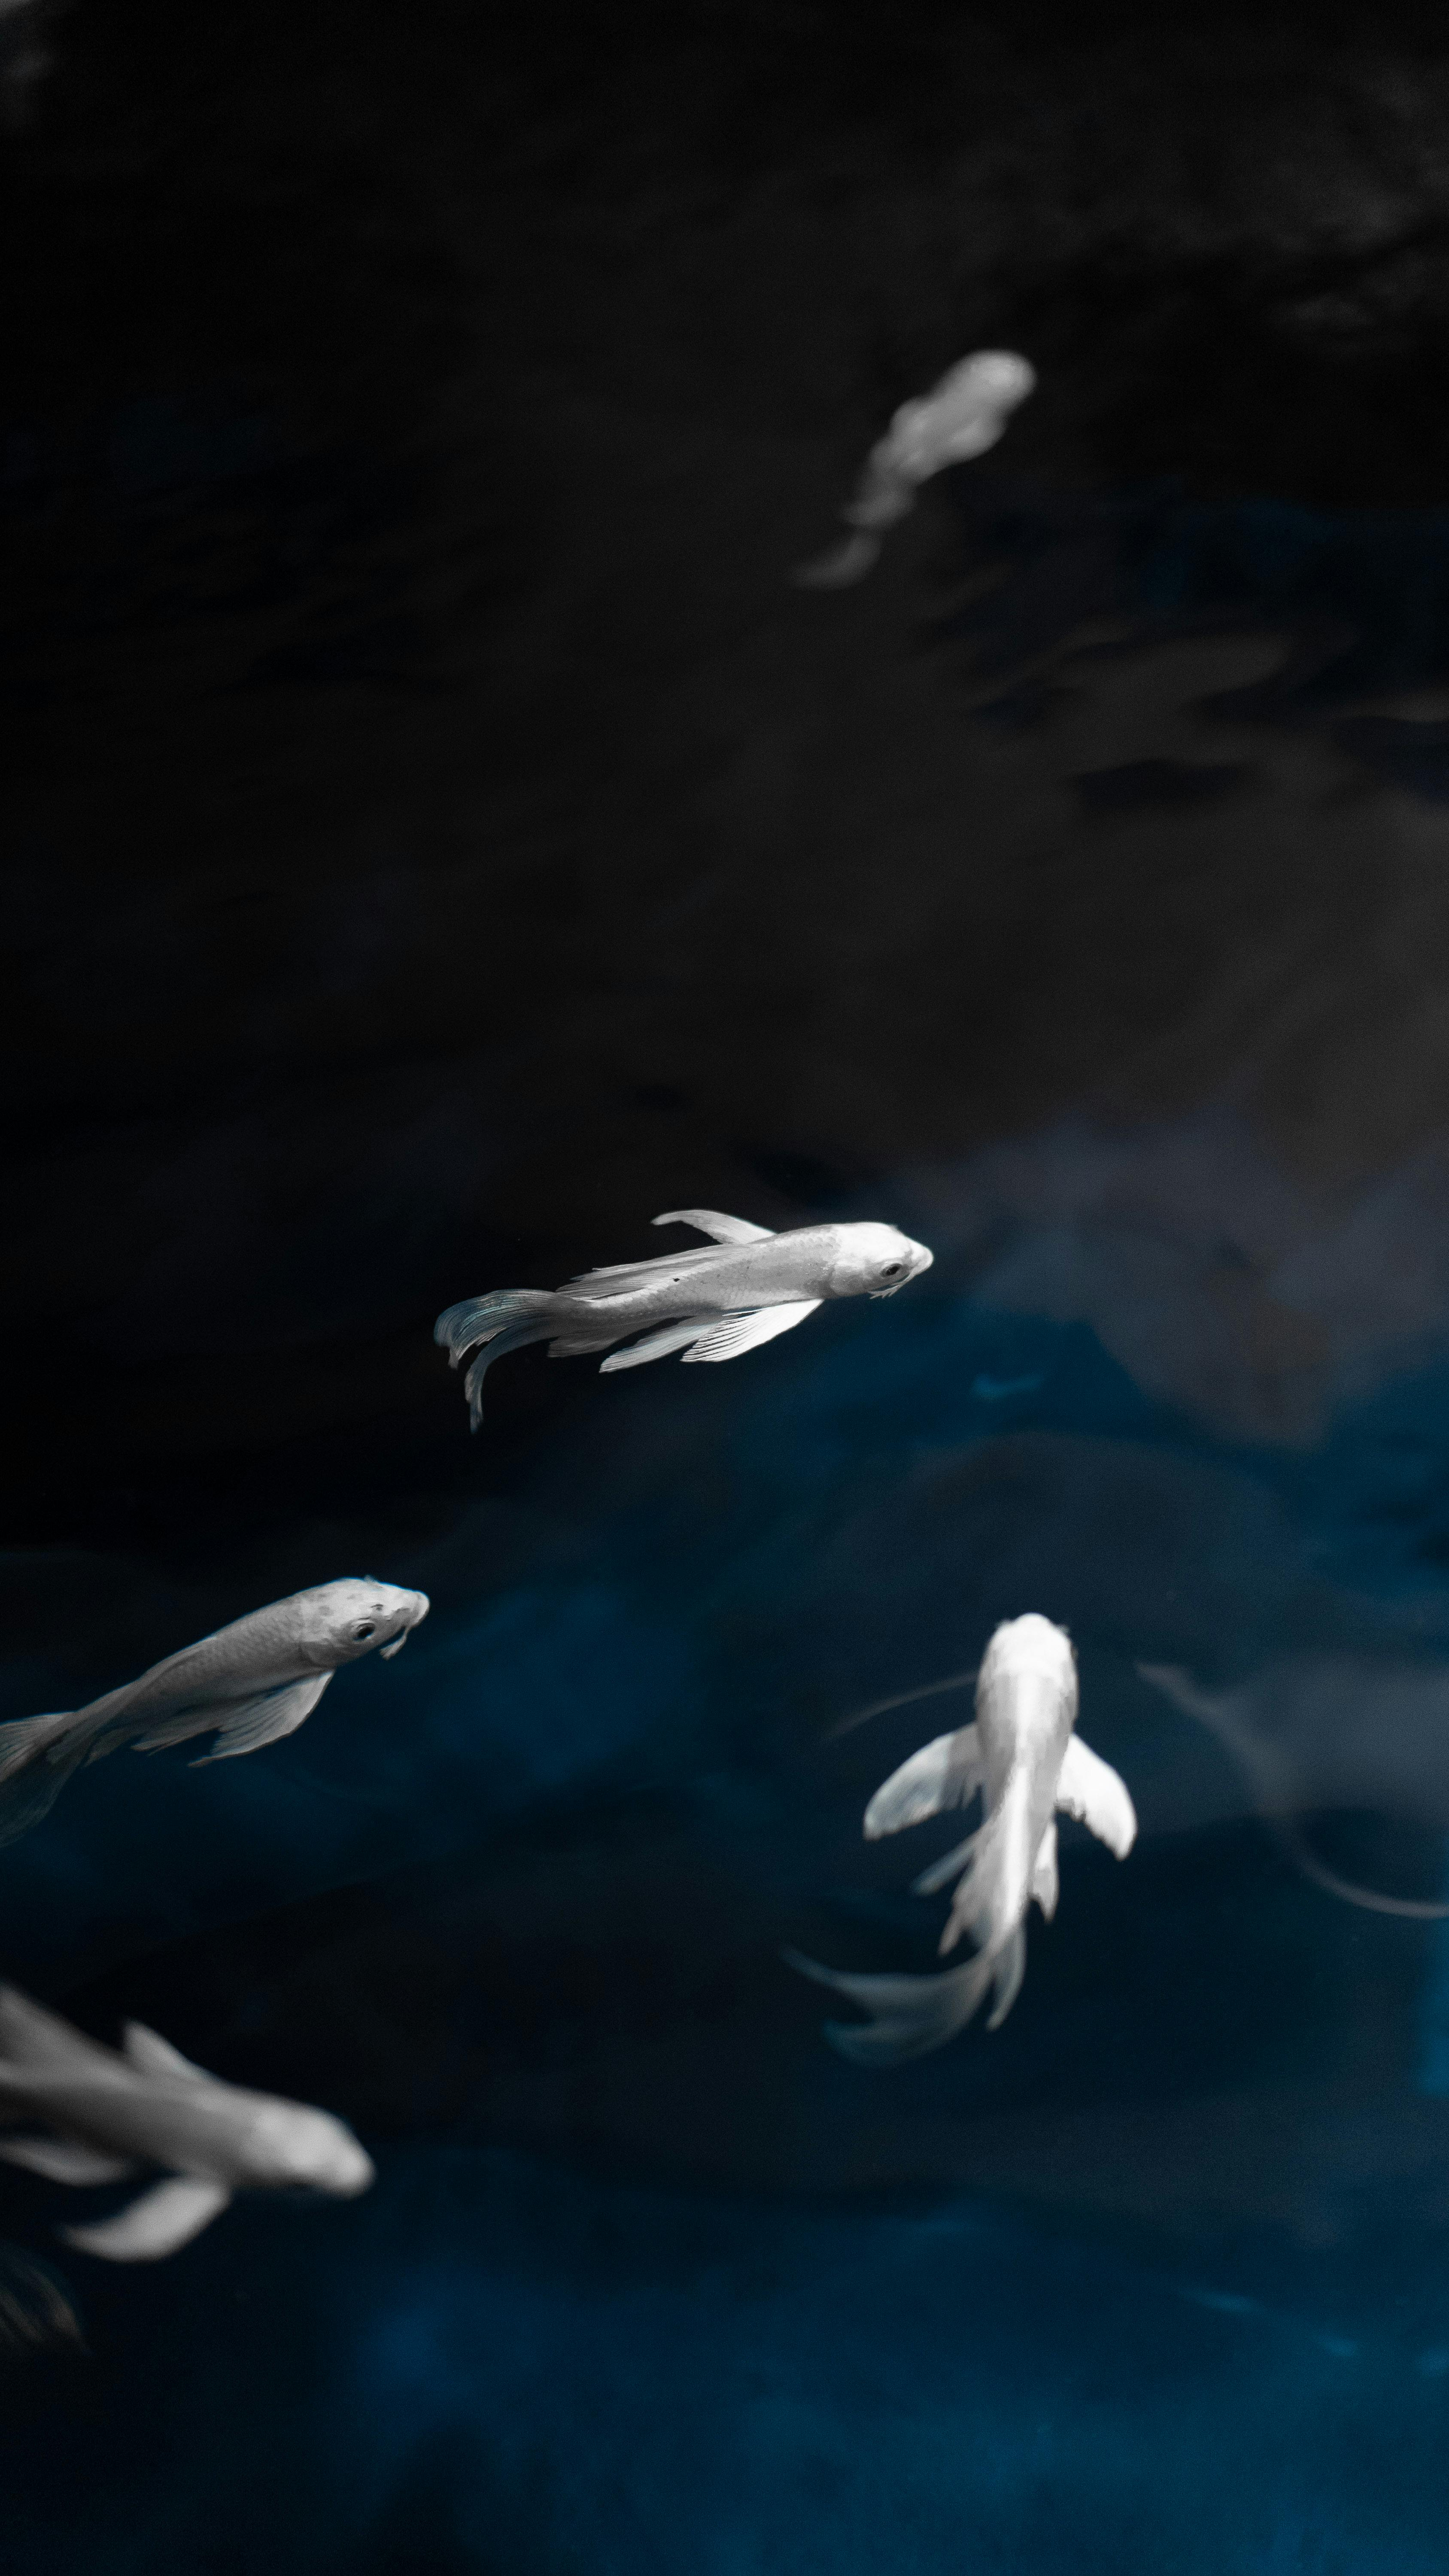fishSmall: (777, 1610, 1145, 2093), (0, 1569, 435, 1829), (442, 1208, 936, 1424), (0, 1982, 379, 2259)
